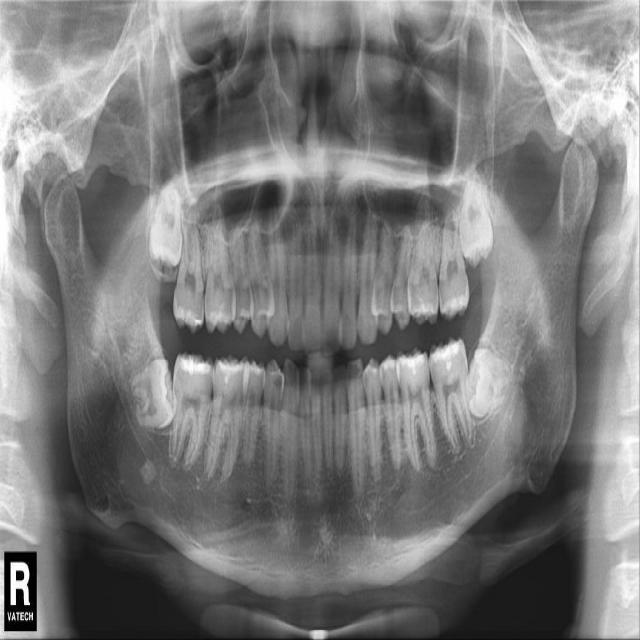3M ESPE Implant: (149, 182, 184, 268)
52: (422, 333, 474, 391), (170, 350, 217, 407), (204, 271, 237, 335), (405, 269, 441, 327), (210, 354, 251, 401), (395, 346, 433, 394), (439, 269, 470, 322), (173, 282, 204, 334)
73: (614, 583, 620, 589)
BioHorizons Implant: (436, 192, 470, 322)
BioLife Implant: (455, 153, 495, 268)
Biomet 3i Implant: (455, 344, 518, 424)
Blue Sky Bio Implant: (426, 335, 477, 454)
Caries: (172, 208, 204, 334)
Implant: (163, 350, 217, 471)
Keystone Dental Implant: (125, 357, 183, 433)
